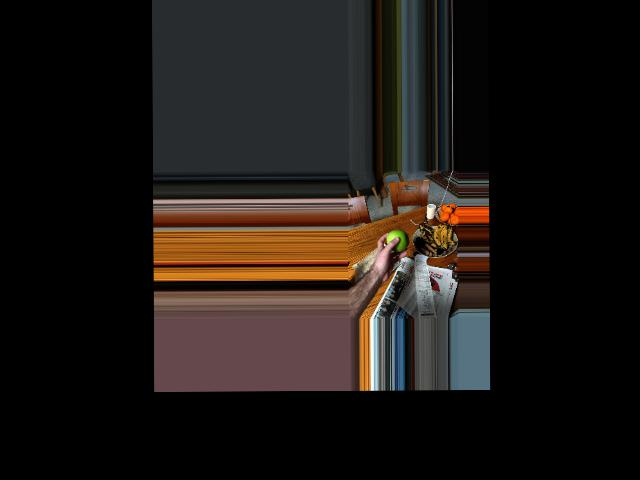apple: (386, 226, 409, 254)
